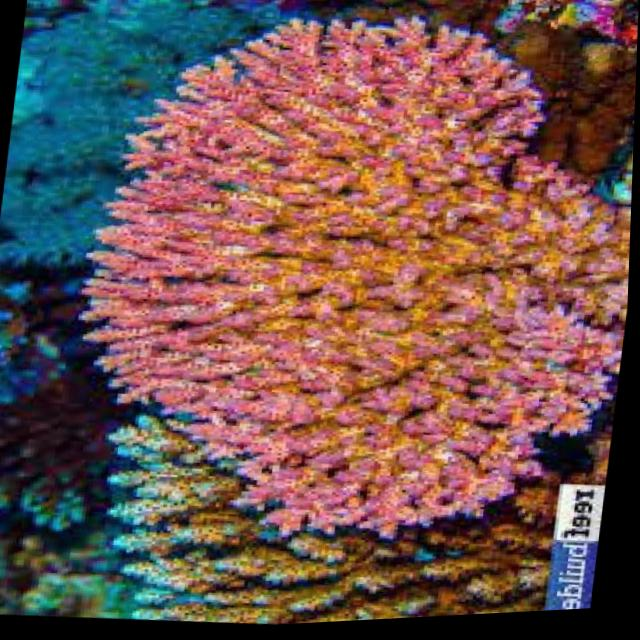Healthy Coral: (49, 0, 595, 564)
